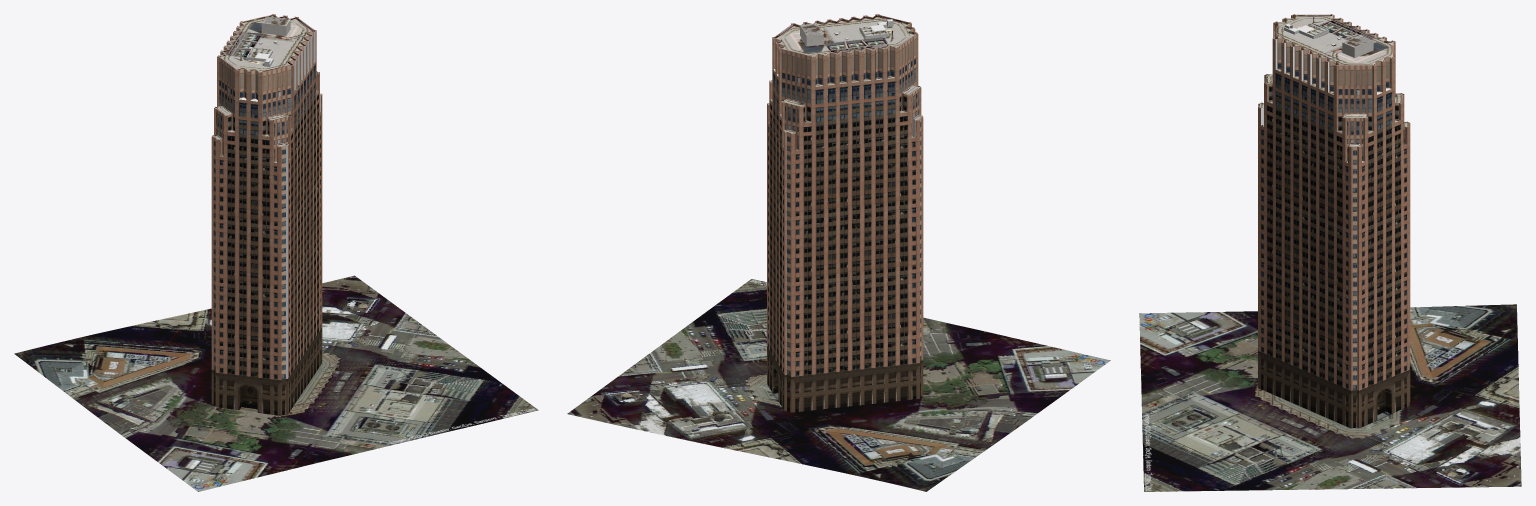
Rendered from zzz.fbx.
The picture shows the model from 3 angles, left to right: view 1: azimuth 30°, elevation 25°; view 2: azimuth 150°, elevation 25°; view 3: azimuth 270°, elevation 25°; orthographic projection. The views are drawn at different scales.
Parts seen in each view (by area): view 1: Google_Earth_Terrain, Barclay_Bank_Building1; view 2: Barclay_Bank_Building1, Google_Earth_Terrain; view 3: Barclay_Bank_Building1, Google_Earth_Terrain.
Boxes of the visible parts, left/top/right/bottom form: Google_Earth_Terrain: left=14, top=275, right=538, bottom=491; Barclay_Bank_Building1: left=211, top=14, right=322, bottom=415; Barclay_Bank_Building1: left=767, top=14, right=923, bottom=412; Google_Earth_Terrain: left=567, top=279, right=1110, bottom=491; Barclay_Bank_Building1: left=1258, top=14, right=1410, bottom=428; Google_Earth_Terrain: left=1139, top=304, right=1521, bottom=491.
Bounding box in the file's own units: 5941 × 5790 × 5433.
